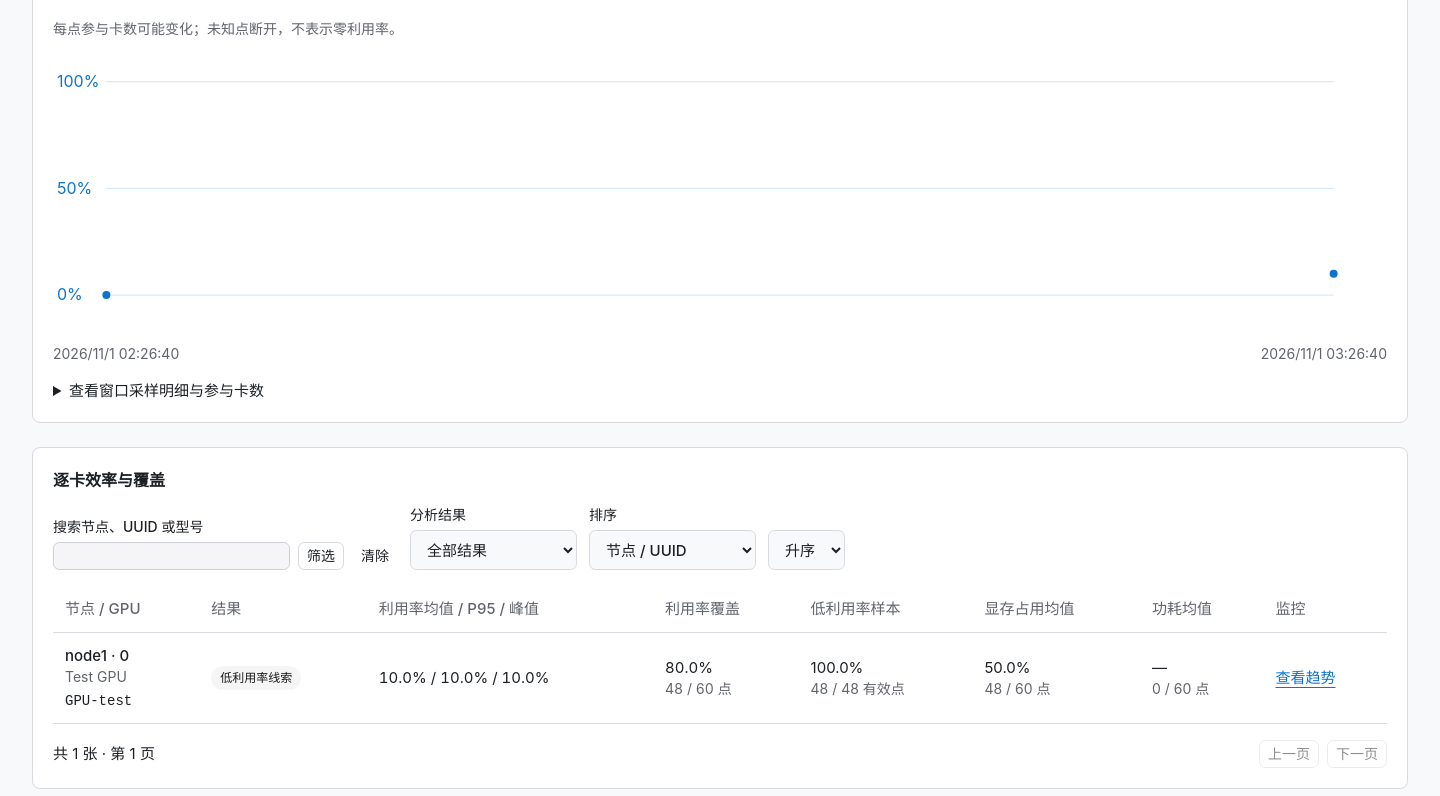
Test: keeps unknown trend points disconnected while preserving zero
(page scrolled)
expect the text "GPU-test" is shown: met, box [65,694,132,710]
Click the heading "查看窗口采样明细与参与卡数".
click(166, 391)  # box [69,382,264,400]
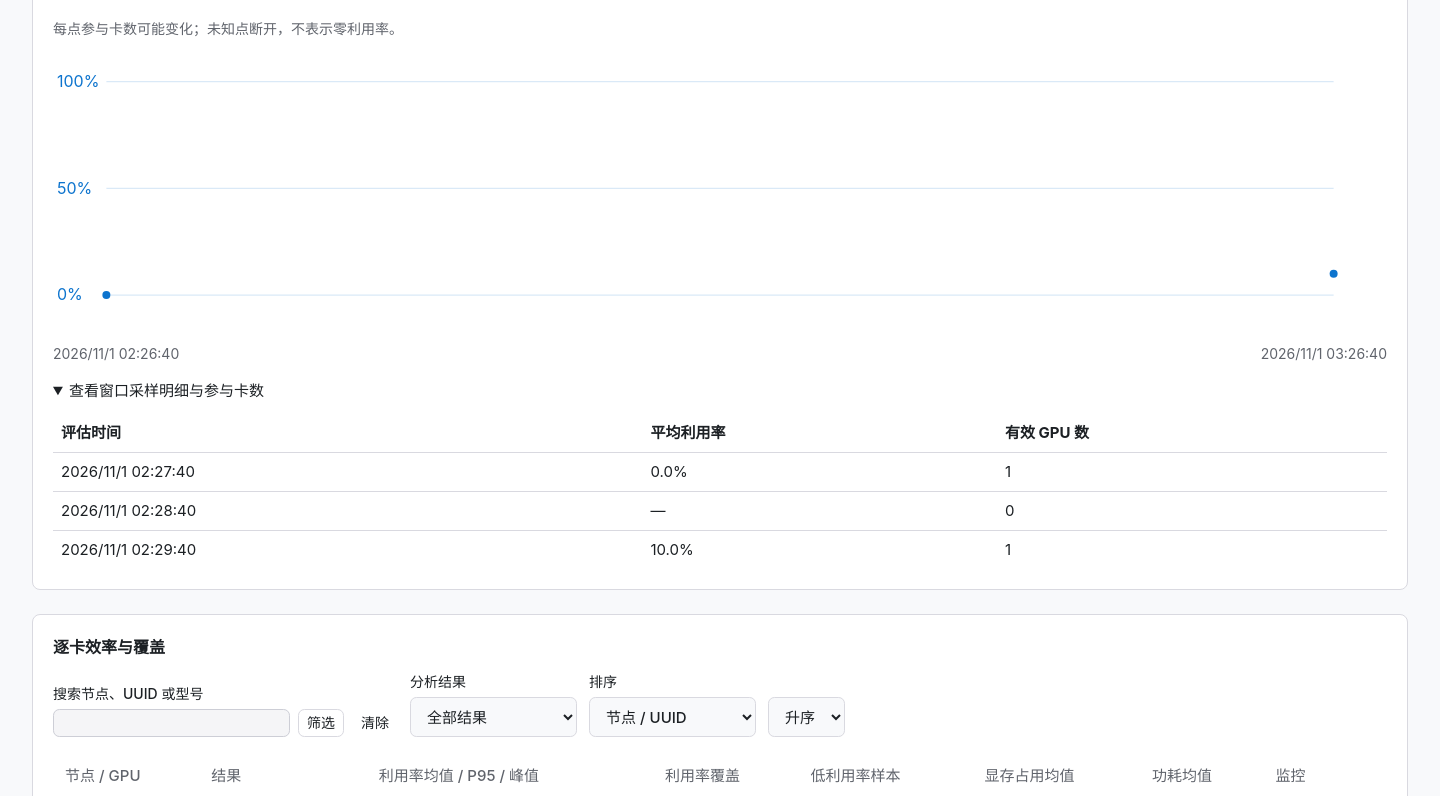
expect the picture named "缺失点断开" is shown: met, box [53,55,1387,328]
expect the text "0.0%" is shown: met, box [642,453,997,492]
